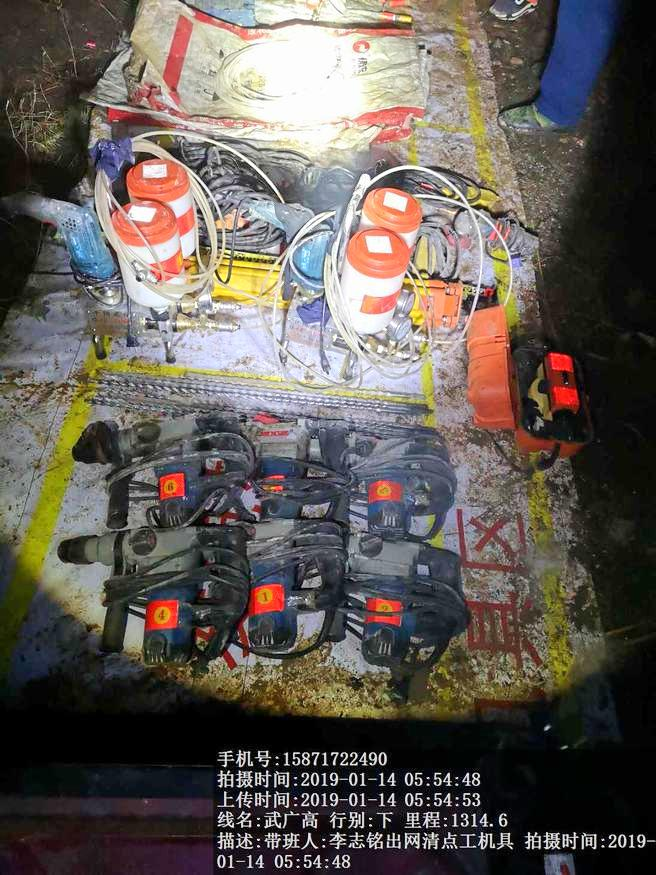DZ: (49, 529, 241, 674), (350, 524, 475, 678), (72, 421, 225, 526), (249, 520, 354, 667), (227, 420, 348, 518), (340, 431, 463, 527)
